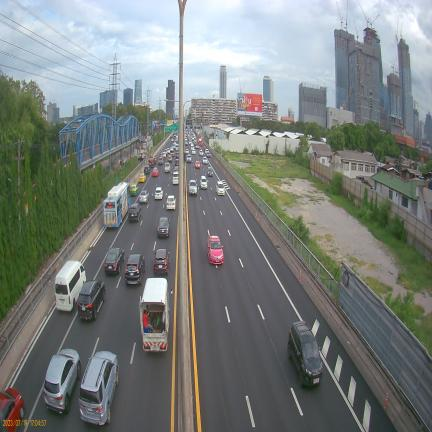bus: (104, 182, 130, 227), (199, 138, 203, 146)
car: (79, 351, 118, 425), (43, 348, 81, 413), (287, 321, 323, 385), (77, 280, 105, 320), (125, 254, 145, 284), (104, 247, 125, 273), (154, 249, 169, 274), (128, 203, 142, 222), (158, 217, 170, 237), (166, 195, 176, 210), (188, 179, 197, 195), (139, 190, 149, 203), (216, 181, 225, 195), (154, 187, 163, 199), (172, 171, 179, 184), (200, 176, 207, 189), (148, 157, 156, 167), (207, 166, 213, 177), (164, 162, 170, 172), (186, 154, 192, 163), (195, 160, 201, 169), (205, 149, 211, 158), (173, 166, 179, 174), (202, 156, 208, 164), (144, 165, 149, 174), (158, 156, 163, 165), (161, 151, 166, 159), (167, 154, 172, 162), (175, 157, 179, 166), (166, 148, 171, 155), (199, 149, 204, 156), (192, 148, 196, 155), (170, 146, 174, 153), (185, 148, 189, 154), (195, 143, 199, 149), (171, 137, 174, 142)
human: (143, 311, 154, 332)
taxi: (207, 236, 224, 264), (130, 184, 139, 196), (152, 167, 159, 177), (139, 173, 146, 182)
truck: (140, 278, 169, 351)
van: (55, 260, 86, 311), (173, 172, 179, 184)
